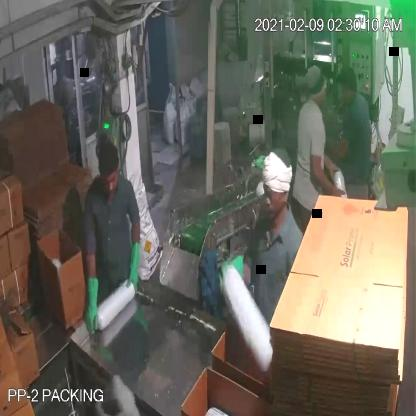glove: (212, 245, 254, 300), (80, 262, 107, 342), (123, 226, 149, 306)
no_glove: (306, 151, 349, 198), (316, 145, 344, 183)
